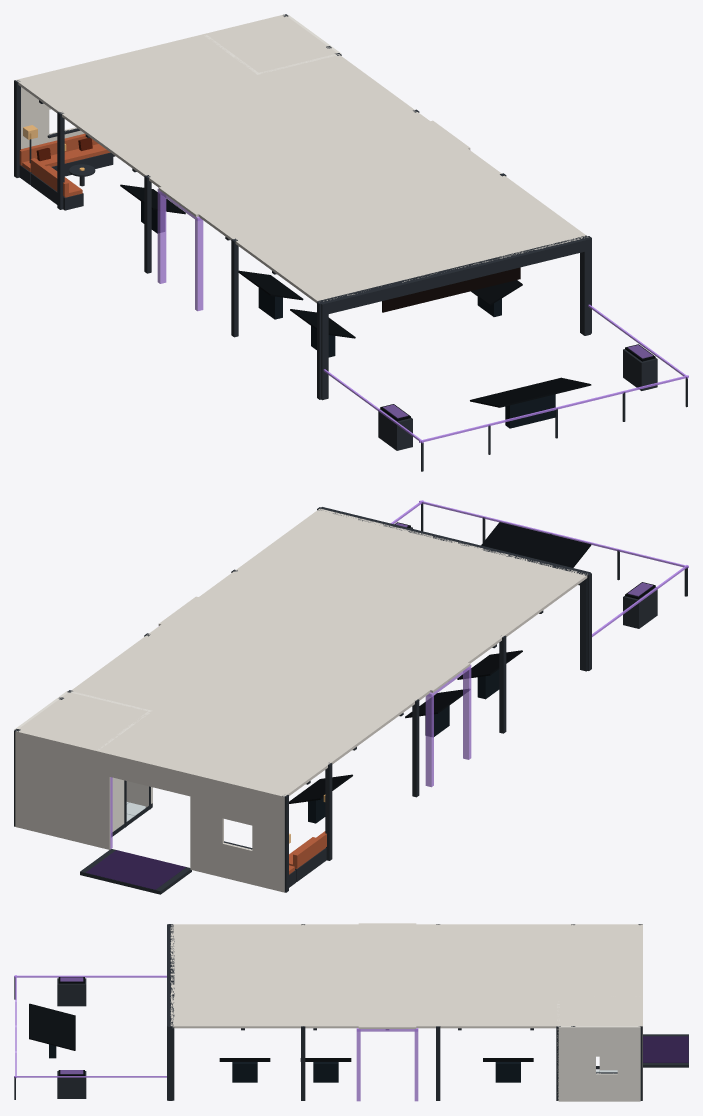
Rendered from skyfleet_bake_03.glb.
3 views of the same model, one above another, from view 1: azimuth 30°, elevation 25°; view 2: azimuth 150°, elevation 25°; view 3: azimuth 270°, elevation 25° (orthographic). The views are drawn at different scales.
Parts seen in each view (by area): view 1: baked; view 2: baked; view 3: baked.
Part boxes in pixels (x1,y1,x2,y2): baked: [14, 14, 688, 471]; baked: [14, 500, 688, 894]; baked: [14, 923, 688, 1101].
Size of the model in its own units: 10.2 by 3.52 by 28.01.
